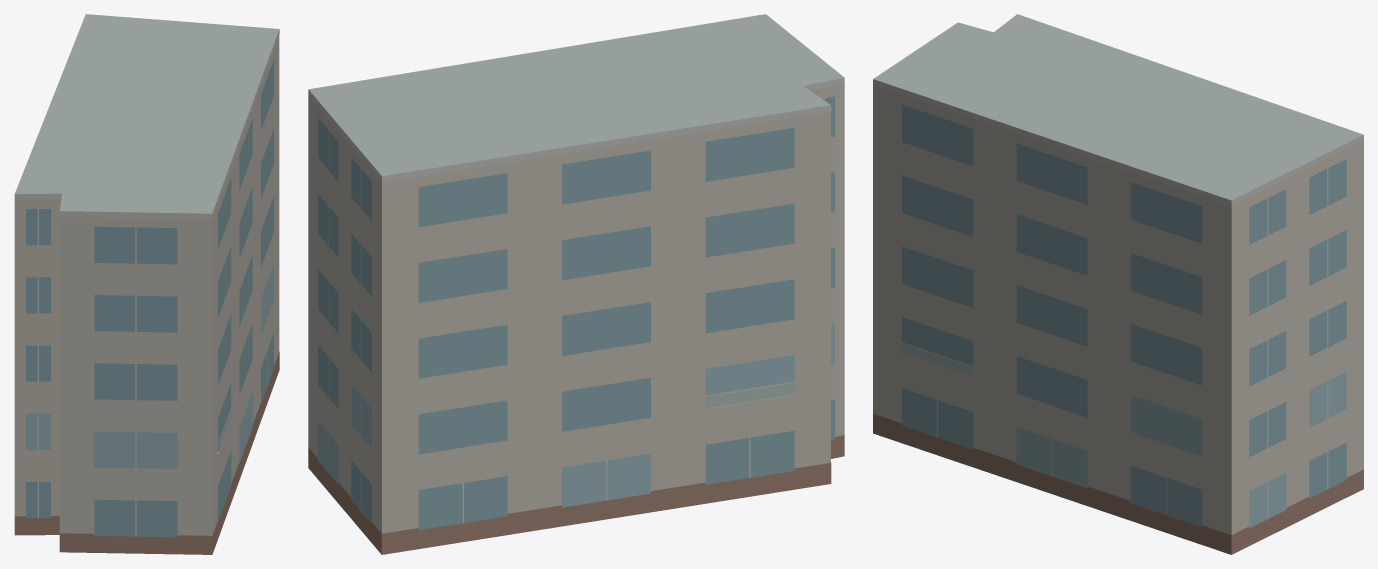
File: survey-upis-32767564.glb
3 renders of one model, left to right at view 1: azimuth 30°, elevation 25°; view 2: azimuth 150°, elevation 25°; view 3: azimuth 270°, elevation 25°, orthographic. The views are drawn at different scales.
Visible parts, largest first — view 1: survey-upis-32767564.tmp; view 2: survey-upis-32767564.tmp; view 3: survey-upis-32767564.tmp.
Part boxes in pixels (x1,y1,x2,y2): survey-upis-32767564.tmp: (14, 14, 279, 554); survey-upis-32767564.tmp: (308, 14, 844, 554); survey-upis-32767564.tmp: (873, 14, 1363, 554).
Size of the model in its own units: 16.41 by 14.54 by 18.25.
